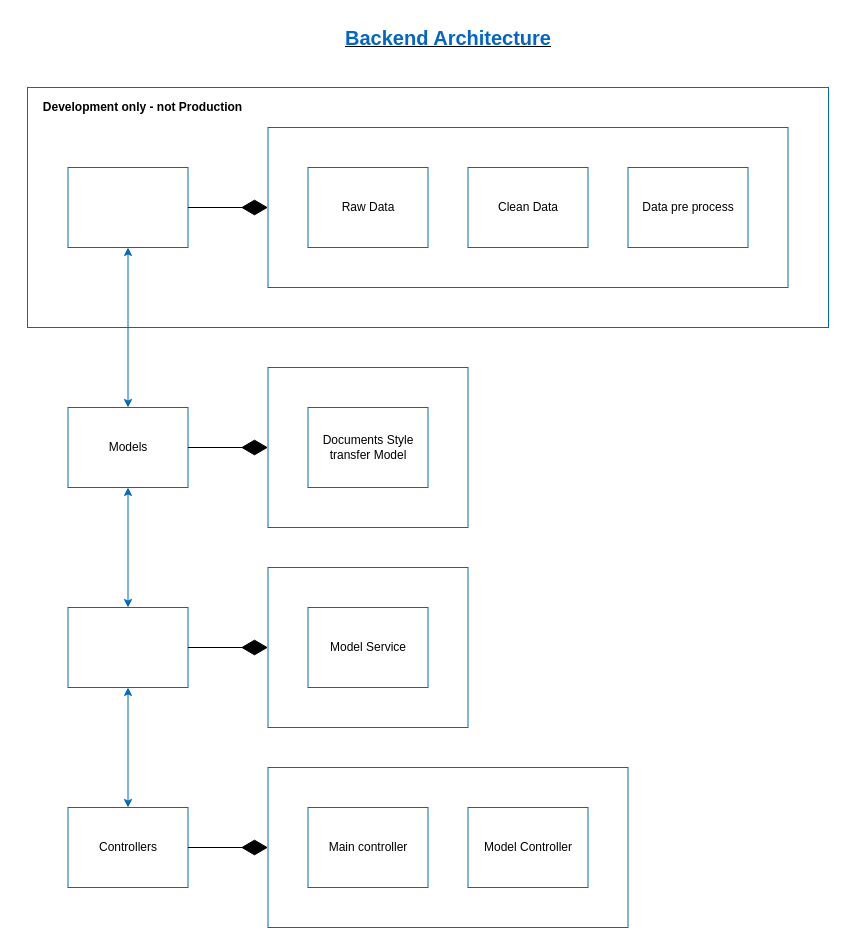
The diagram is 846 pixels wide and 945 high, and some of its shapes have lost their labels. Each missing label, with the centre of its shape:
"Data" belongs at point (127, 207).
"Services" belongs at point (127, 647).
